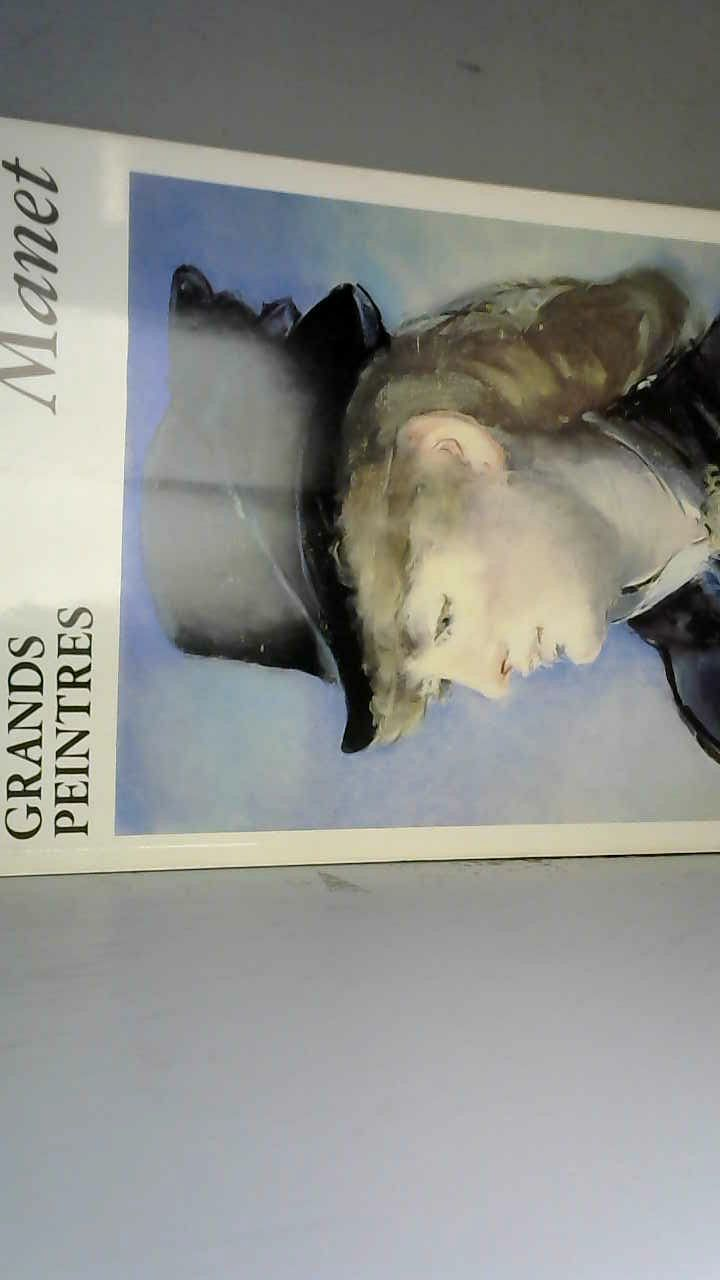book: (0, 117, 720, 893)
